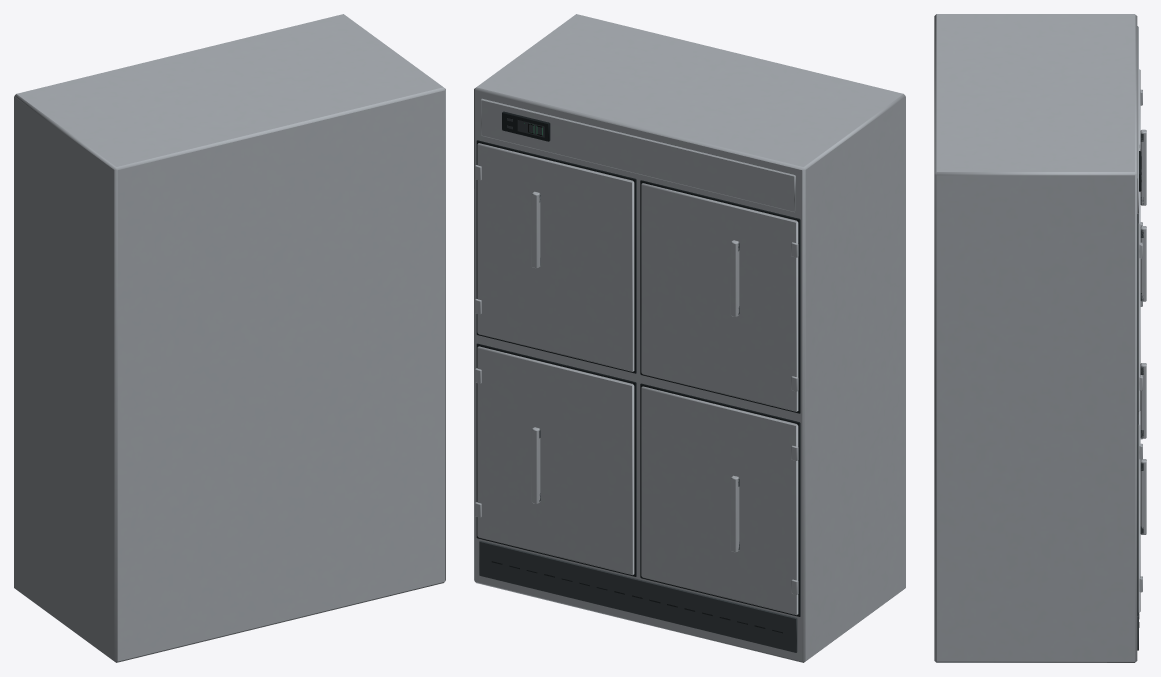
The model's file is geladeira_realista.glb.
The picture shows the model from 3 angles, left to right: view 1: azimuth 30°, elevation 25°; view 2: azimuth 150°, elevation 25°; view 3: azimuth 270°, elevation 25°; orthographic projection.
Parts seen in each view (by area): view 1: Cozinha_Geladeira_PBR; view 2: Cozinha_Geladeira_PBR; view 3: Cozinha_Geladeira_PBR.
Part boxes in pixels (<box>): Cozinha_Geladeira_PBR: <box>14,14,445,662</box>; Cozinha_Geladeira_PBR: <box>474,14,905,662</box>; Cozinha_Geladeira_PBR: <box>934,14,1146,662</box>.
Size of the model in its own units: 1.4 by 2 by 0.785.
Materials: 1 (1 with a texture image).
